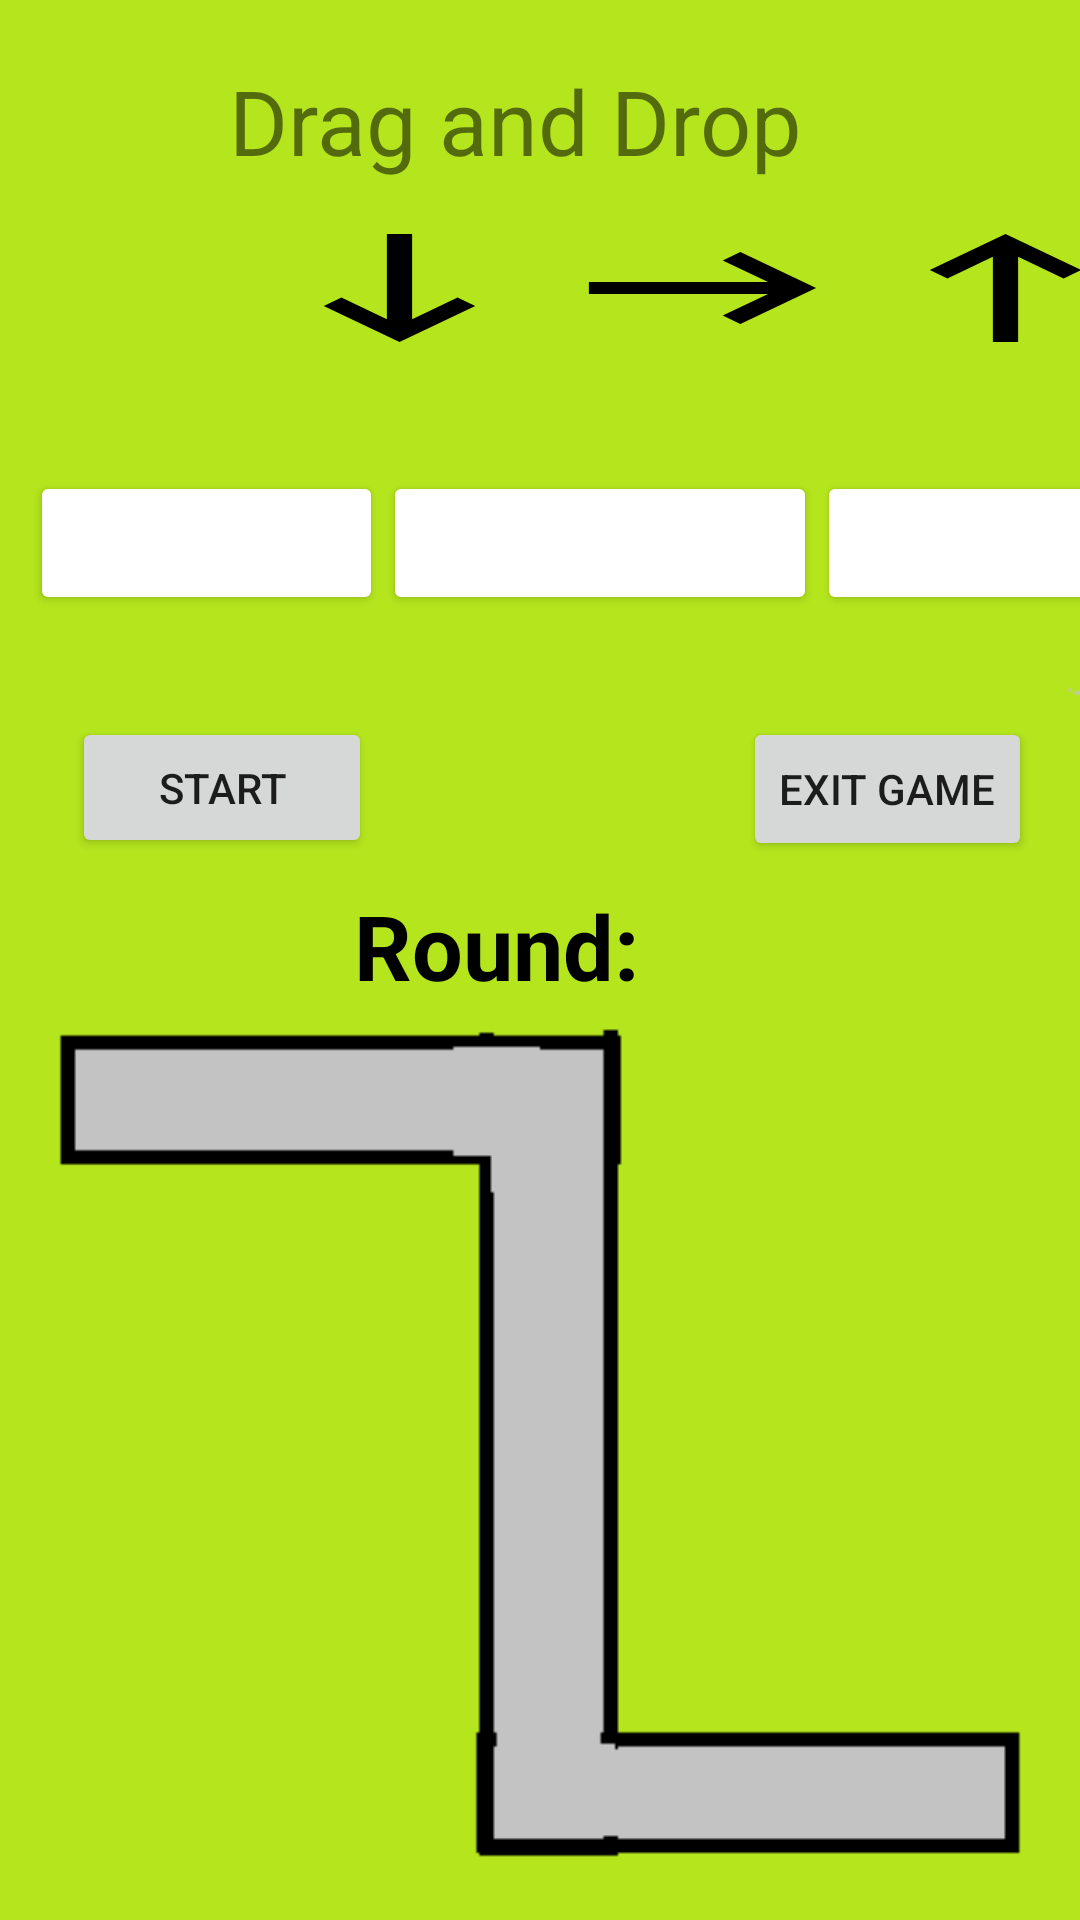

Screen size 1080x1920. Icon name, then its center in pixels as [x,y]:
downspace: [399,288]
forwardspace: [702,288]
